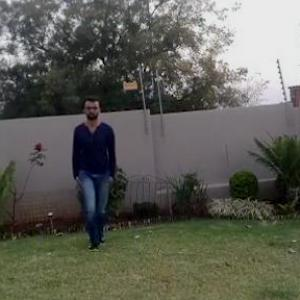follow: (71, 96, 122, 245)
